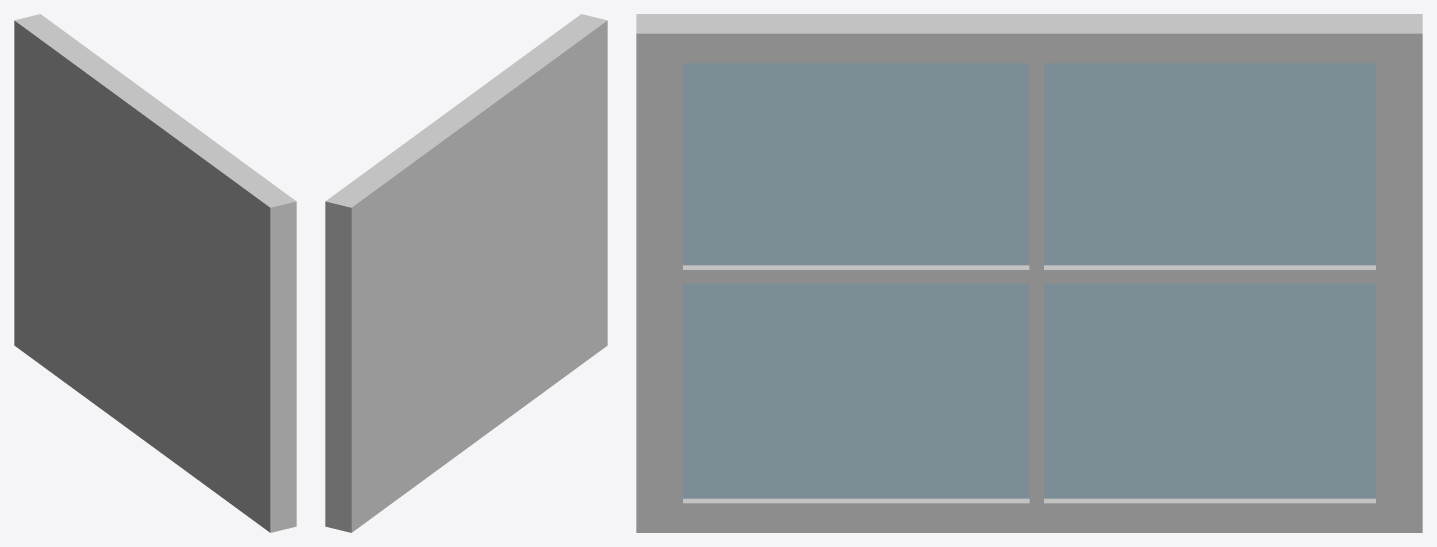
File: window_coloured.fbx
The picture shows the model from 3 angles, left to right: view 1: azimuth 30°, elevation 25°; view 2: azimuth 150°, elevation 25°; view 3: azimuth 270°, elevation 25°; orthographic projection. The views are drawn at different scales.
Parts seen in each view (by area): view 1: Cube; view 2: Cube; view 3: Cube.
Part boxes in pixels (x1,y1,x2,y2): Cube: (14,14,296,532); Cube: (325,14,607,532); Cube: (636,14,1422,532).
Bounding box in the file's own units: 2.34 × 27.7 × 39.54.
